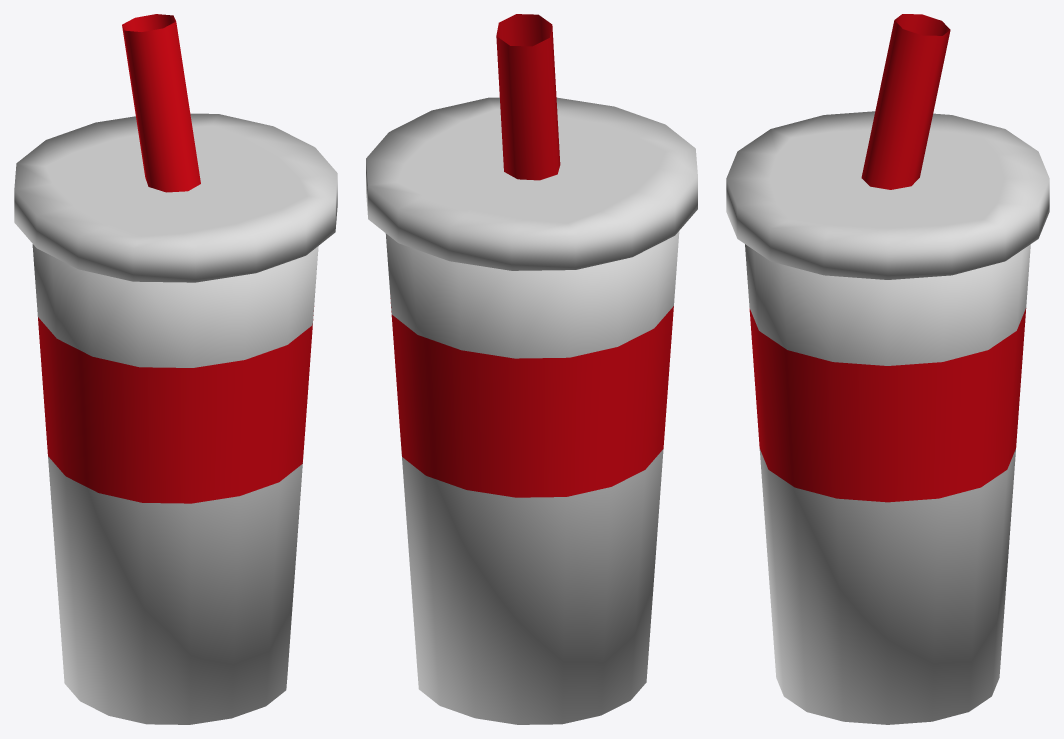
Rendered from drinkTray.fbx.
The picture shows the model from 3 angles, left to right: view 1: azimuth 30°, elevation 25°; view 2: azimuth 150°, elevation 25°; view 3: azimuth 270°, elevation 25°; orthographic projection. The views are drawn at different scales.
Visible parts, largest first — view 1: drinkTray; view 2: drinkTray; view 3: drinkTray.
Part boxes in pixels (x1,y1,x2,y2): drinkTray: [14, 14, 337, 724]; drinkTray: [366, 14, 697, 724]; drinkTray: [726, 14, 1049, 724].
Bounding box in the file's own units: 31.66 × 70.51 × 31.66.
